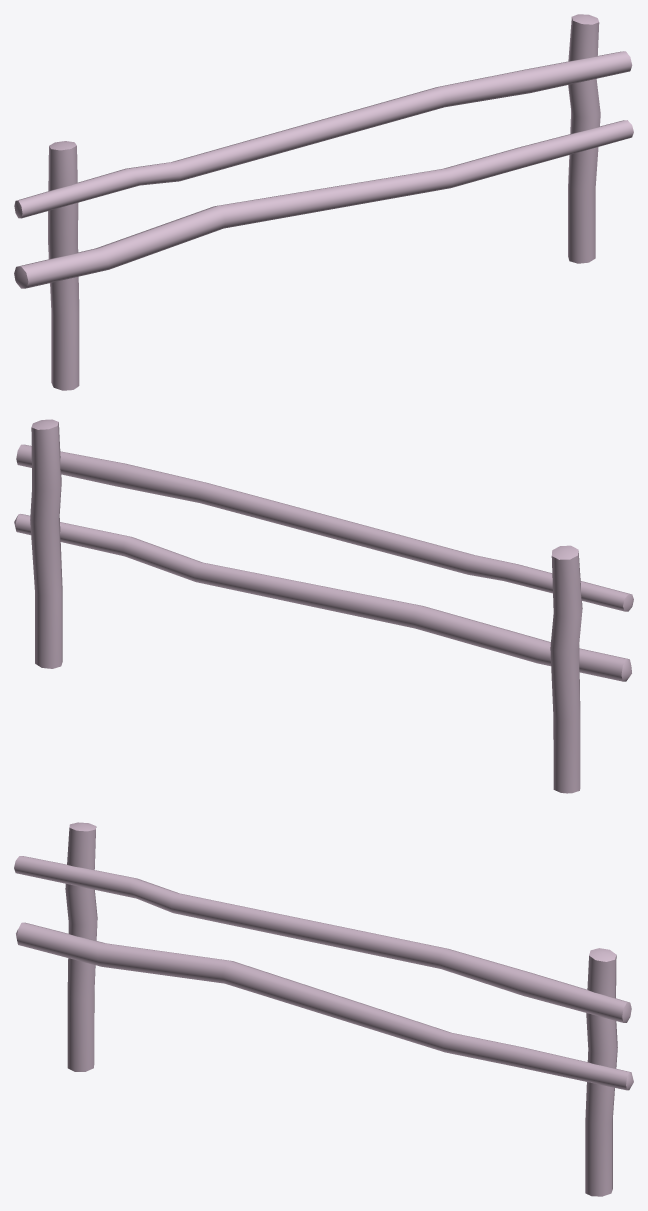
The model's file is fence_01_lod.fbx.
3 views of the same model, one above another, from view 1: azimuth 30°, elevation 25°; view 2: azimuth 150°, elevation 25°; view 3: azimuth 330°, elevation 25° (orthographic).
Visible parts, largest first — view 1: Cylinder.006; view 2: Cylinder.006; view 3: Cylinder.006.
Part boxes in pixels (box(x1,y1,x2,y2)): Cylinder.006: box(14, 14, 633, 390); Cylinder.006: box(14, 419, 633, 793); Cylinder.006: box(14, 822, 633, 1196).
Size of the model in its own units: 4.06 by 1.54 by 0.2864.
